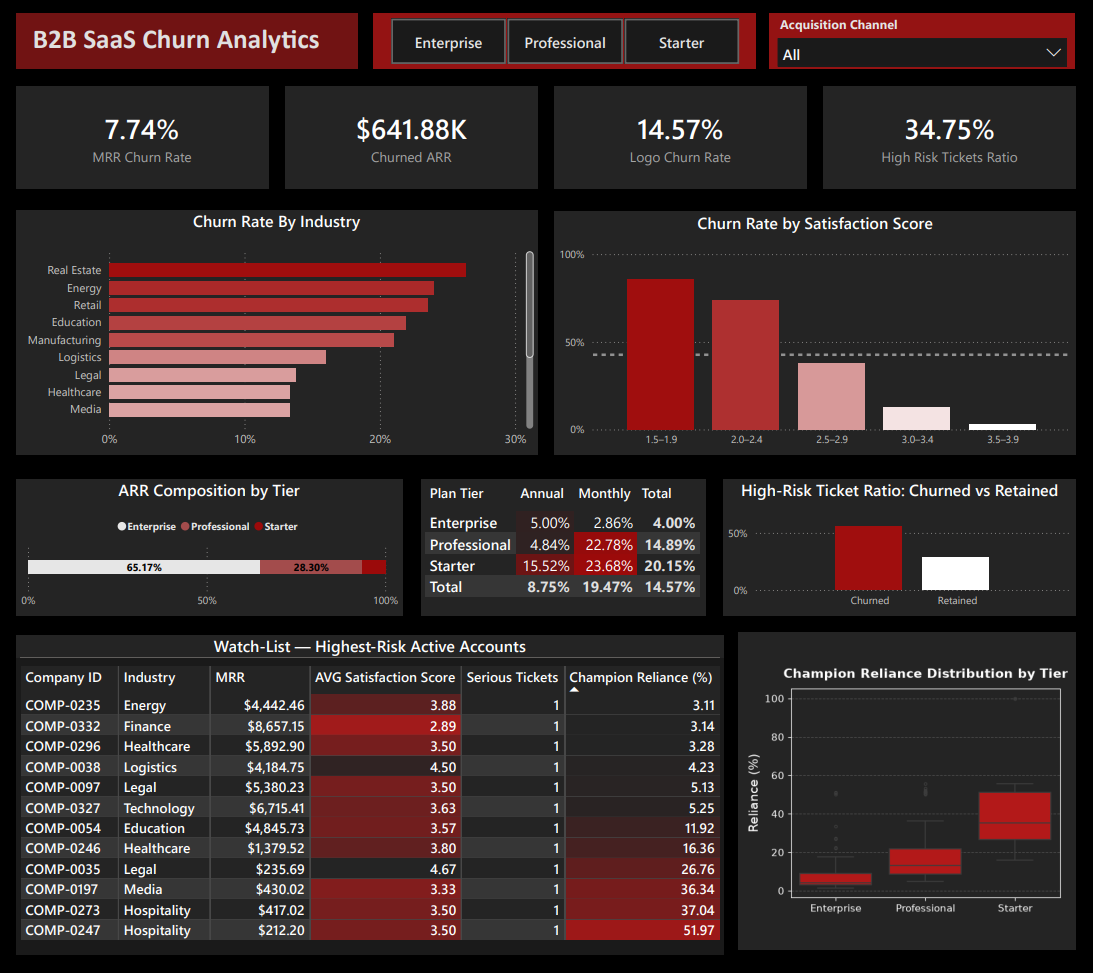

The page's visual inventory and layout, read from the dashboard file:
{"tool":"powerbi","page":{"name":"Page 1","canvas":[1280,1150],"ordinal":0},"visuals":[{"type":"slicer","fields":{"Values":["customer_attrition_db_customer_summary.acquisition_channel"]},"box":[901.4,20,357.9,65],"z":0},{"type":"cardVisual","fields":{"Data":["customer_attrition_db_customer_summary.MRR Churn Rate"]},"box":[20,105,295,120],"z":0,"group":"g3"},{"type":"textbox","box":[20,20,400.1,65],"z":1000},{"type":"cardVisual","fields":{"Data":["customer_attrition_db_customer_summary.churned_arr"]},"box":[335,105,295,120],"z":1000,"group":"g3"},{"type":"slicer","fields":{"Values":["customer_attrition_db_customer_summary.plan_tier"]},"box":[438.3,20,446.7,65],"z":2000},{"type":"cardVisual","fields":{"Data":["customer_attrition_db_customer_summary.logo_churn_rate"]},"box":[650,105,295,120],"z":2000,"group":"g3"},{"type":"cardVisual","fields":{"Data":["customer_attrition_db_customer_summary.serious_tickets_ratio"]},"box":[965,105,295,120],"z":3000,"group":"g3"},{"type":"group","id":"g1","title":"Group 1","box":[20,564.6,1239.5,160],"z":3000},{"type":"group","id":"g2","title":"Group 2","box":[20,250.4,1240,286.7],"z":4000},{"type":"clusteredBarChart","title":"Churn Rate By Industry","fields":{"Category":["customer_attrition_db_customer_summary.industry"],"Y":["customer_attrition_db_customer_summary.logo_churn_rate"]},"box":[20,250.4,610,286.7],"z":4000,"group":"g2"},{"type":"group","id":"g3","title":"Group 3","box":[20,105,1240,120],"z":5000},{"type":"pivotTable","fields":{"Columns":["customer_attrition_db_customer_summary.billing_cycle"],"Values":["customer_attrition_db_customer_summary.logo_churn_rate"],"Rows":["customer_attrition_db_customer_summary.plan_tier"]},"box":[494.2,564.6,332.4,159.5],"z":5000,"group":"g1"},{"type":"clusteredColumnChart","title":"High-Risk Ticket Ratio: Churned vs Retained","fields":{"Y":["customer_attrition_db_customer_summary.serious_tickets_ratio"],"Category":["customer_attrition_db_customer_summary.retention_status"]},"box":[848.4,564.6,411.1,159.5],"z":6000,"group":"g1"},{"type":"tableEx","title":"  Watch-List — Highest-Risk Active Accounts","fields":{"Values":["customer_attrition_db_customer_summary.company_id","customer_attrition_db_customer_summary.industry","Sum(customer_attrition_db_customer_summary.mrr)","Avg(customer_attrition_db_customer_summary.avg_satisfaction_score)","CountNonNull(customer_attrition_db_customer_summary.serious_tickets)","Sum(customer_attrition_db_customer_summary.champion_reliance_percentage)"]},"box":[20,748,828,374],"z":6000},{"type":"clusteredColumnChart","title":"Churn Rate by Satisfaction Score","fields":{"Y":["customer_attrition_db_customer_summary.logo_churn_rate"],"Category":["customer_attrition_db_customer_summary.Satisfaction Bucket"]},"box":[650,252.1,610,285],"z":7000,"group":"g2"},{"type":"pythonVisual","fields":{"Values":["customer_attrition_db_customer_summary.plan_tier","customer_attrition_db_customer_summary.champion_reliance_percentage","customer_attrition_db_customer_summary.company_id"]},"box":[865,745,395,372],"z":7000},{"type":"hundredPercentStackedBarChart","title":"ARR Composition by Tier","fields":{"Series":["customer_attrition_db_customer_summary.plan_tier"],"Y":["customer_attrition_db_customer_summary.arr"]},"box":[20,565.1,451.9,159.5],"z":8000,"group":"g1"}]}

Visuals, with their boxes in screenshot pixels (x1, y1, x2, y2), scaled from the page's 1280x1150 canvas onto the 1093x973 screenshot:
slicer - customer_attrition_db_customer_summary.acquisition_channel: box(770, 17, 1075, 72)
cardVisual - customer_attrition_db_customer_summary.MRR Churn Rate: box(17, 89, 269, 190)
textbox: box(17, 17, 359, 72)
cardVisual - customer_attrition_db_customer_summary.churned_arr: box(286, 89, 538, 190)
slicer - customer_attrition_db_customer_summary.plan_tier: box(374, 17, 756, 72)
cardVisual - customer_attrition_db_customer_summary.logo_churn_rate: box(555, 89, 807, 190)
cardVisual - customer_attrition_db_customer_summary.serious_tickets_ratio: box(824, 89, 1076, 190)
"Group 1" group: box(17, 478, 1075, 613)
"Group 2" group: box(17, 212, 1076, 454)
"Churn Rate By Industry" clusteredBarChart: box(17, 212, 538, 454)
"Group 3" group: box(17, 89, 1076, 190)
pivotTable - customer_attrition_db_customer_summary.billing_cycle x customer_attrition_db_customer_summary.logo_churn_rate: box(422, 478, 706, 613)
"High-Risk Ticket Ratio: Churned vs Retained" clusteredColumnChart: box(724, 478, 1075, 613)
"  Watch-List — Highest-Risk Active Accounts" tableEx: box(17, 633, 724, 949)
"Churn Rate by Satisfaction Score" clusteredColumnChart: box(555, 213, 1076, 454)
pythonVisual - customer_attrition_db_customer_summary.plan_tier x customer_attrition_db_customer_summary.champion_reliance_percentage: box(739, 630, 1076, 945)
"ARR Composition by Tier" hundredPercentStackedBarChart: box(17, 478, 403, 613)
